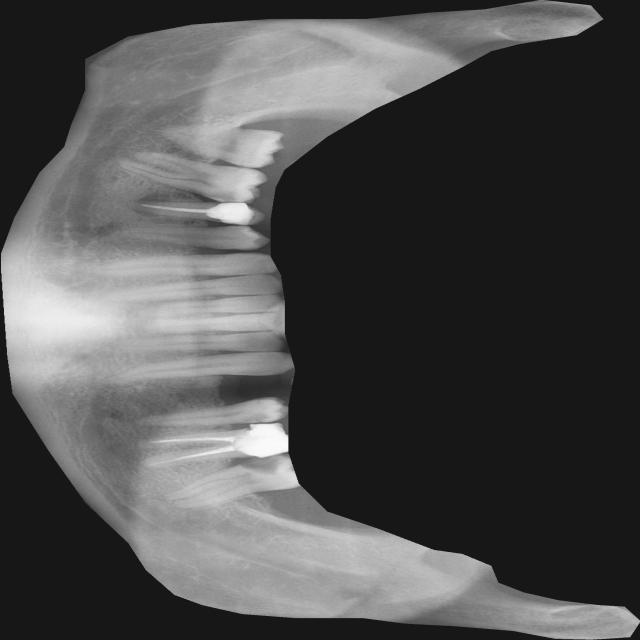mandibula: (0, 0, 640, 640)
